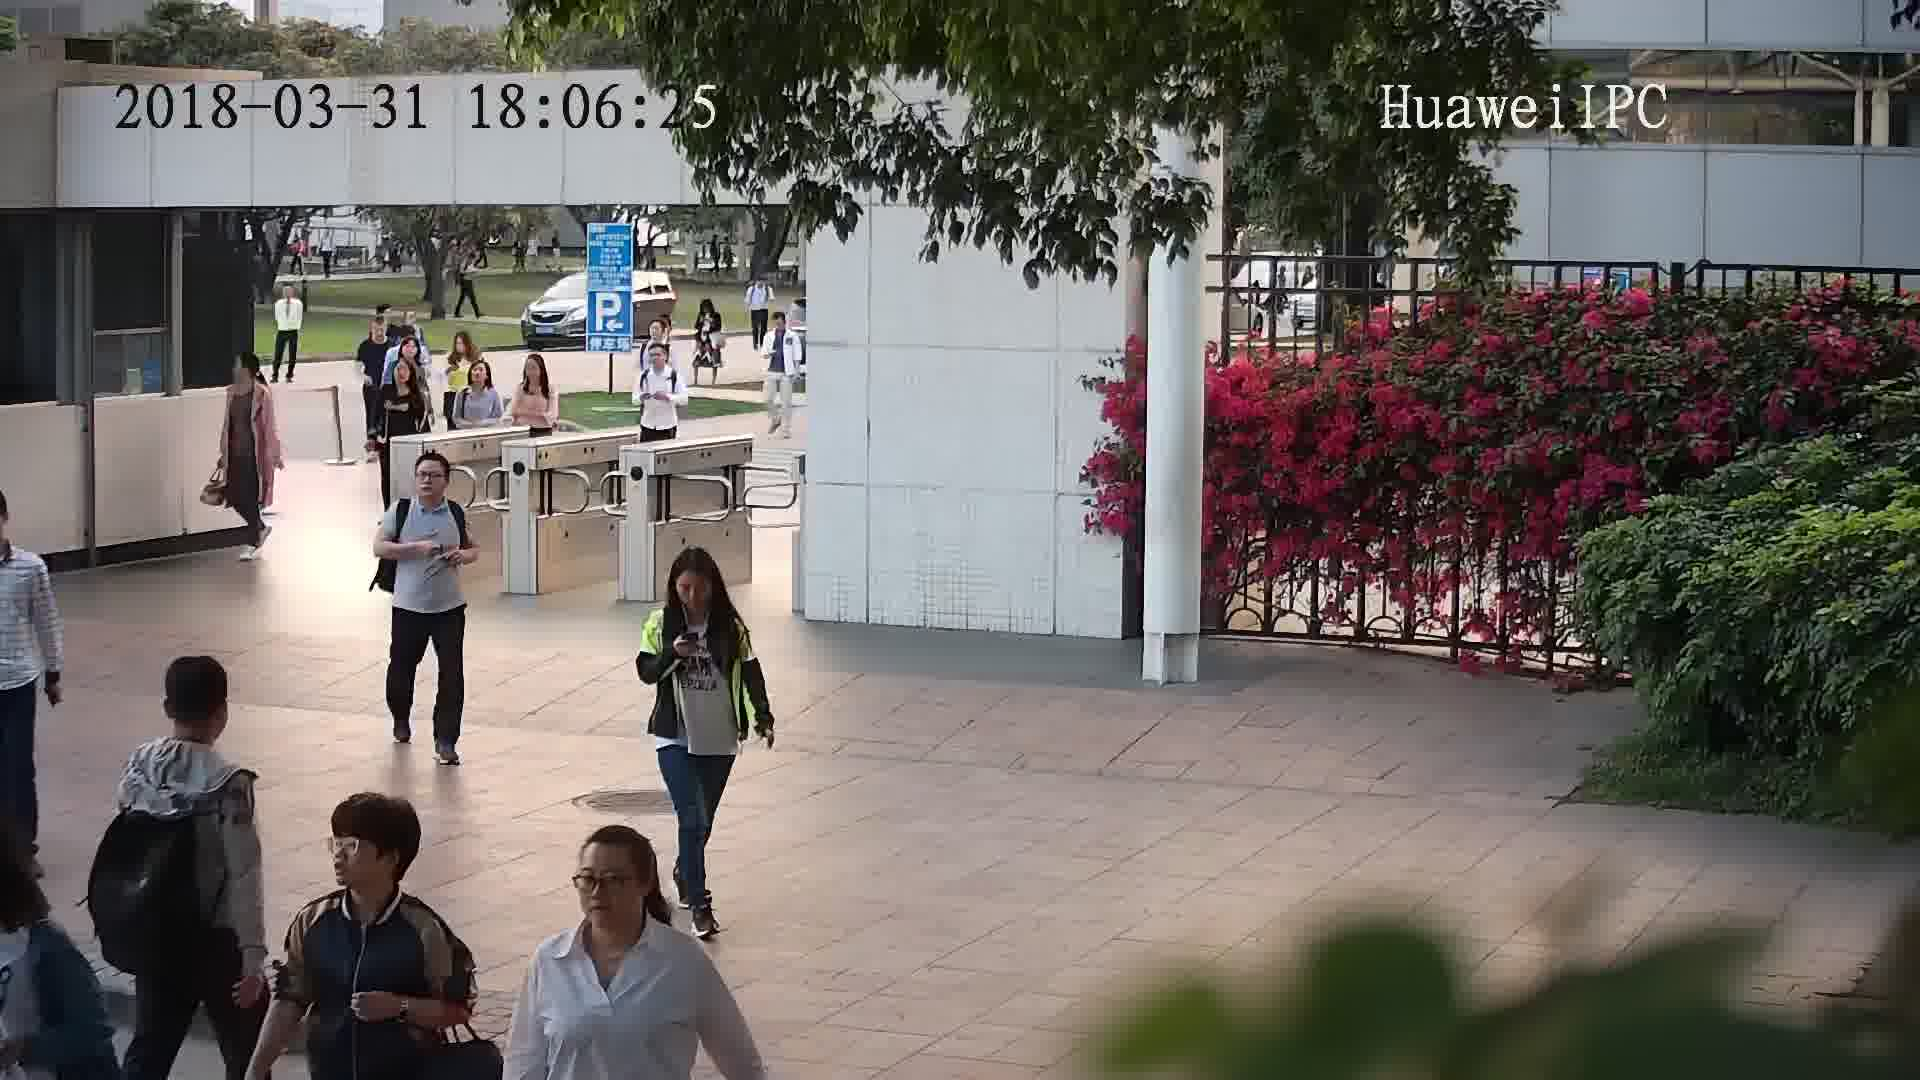face: (566, 845, 652, 931), (325, 819, 393, 887), (671, 568, 715, 611), (414, 456, 452, 503)
person: (523, 825, 712, 991), (287, 789, 453, 968), (120, 653, 250, 792), (647, 545, 746, 639), (384, 449, 469, 529), (1, 492, 51, 601), (224, 348, 271, 411), (454, 359, 500, 406), (379, 361, 427, 402), (640, 340, 686, 383), (354, 310, 394, 357), (384, 327, 428, 369), (518, 351, 558, 393), (639, 315, 675, 356), (446, 329, 479, 365), (768, 309, 798, 343), (692, 296, 725, 326), (275, 280, 302, 310), (748, 271, 772, 293)
